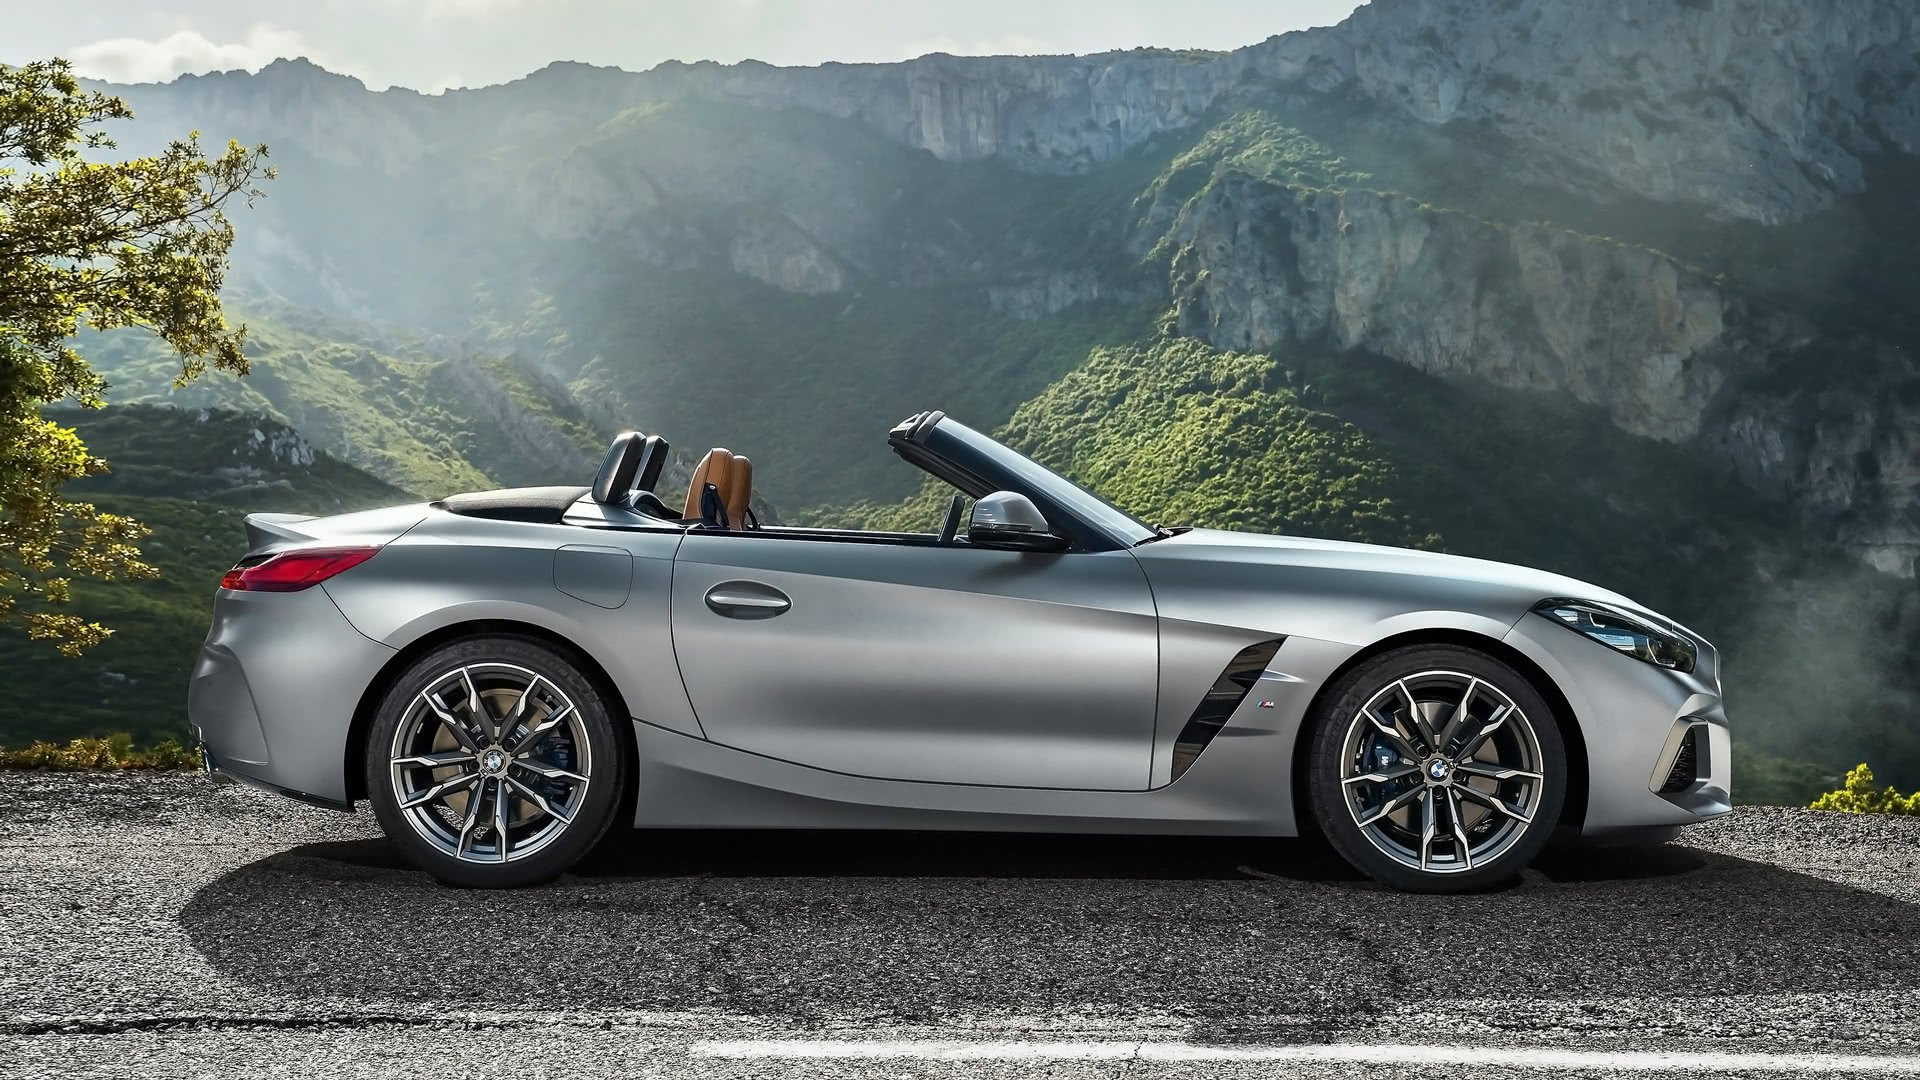car: (195, 406, 1751, 891)
